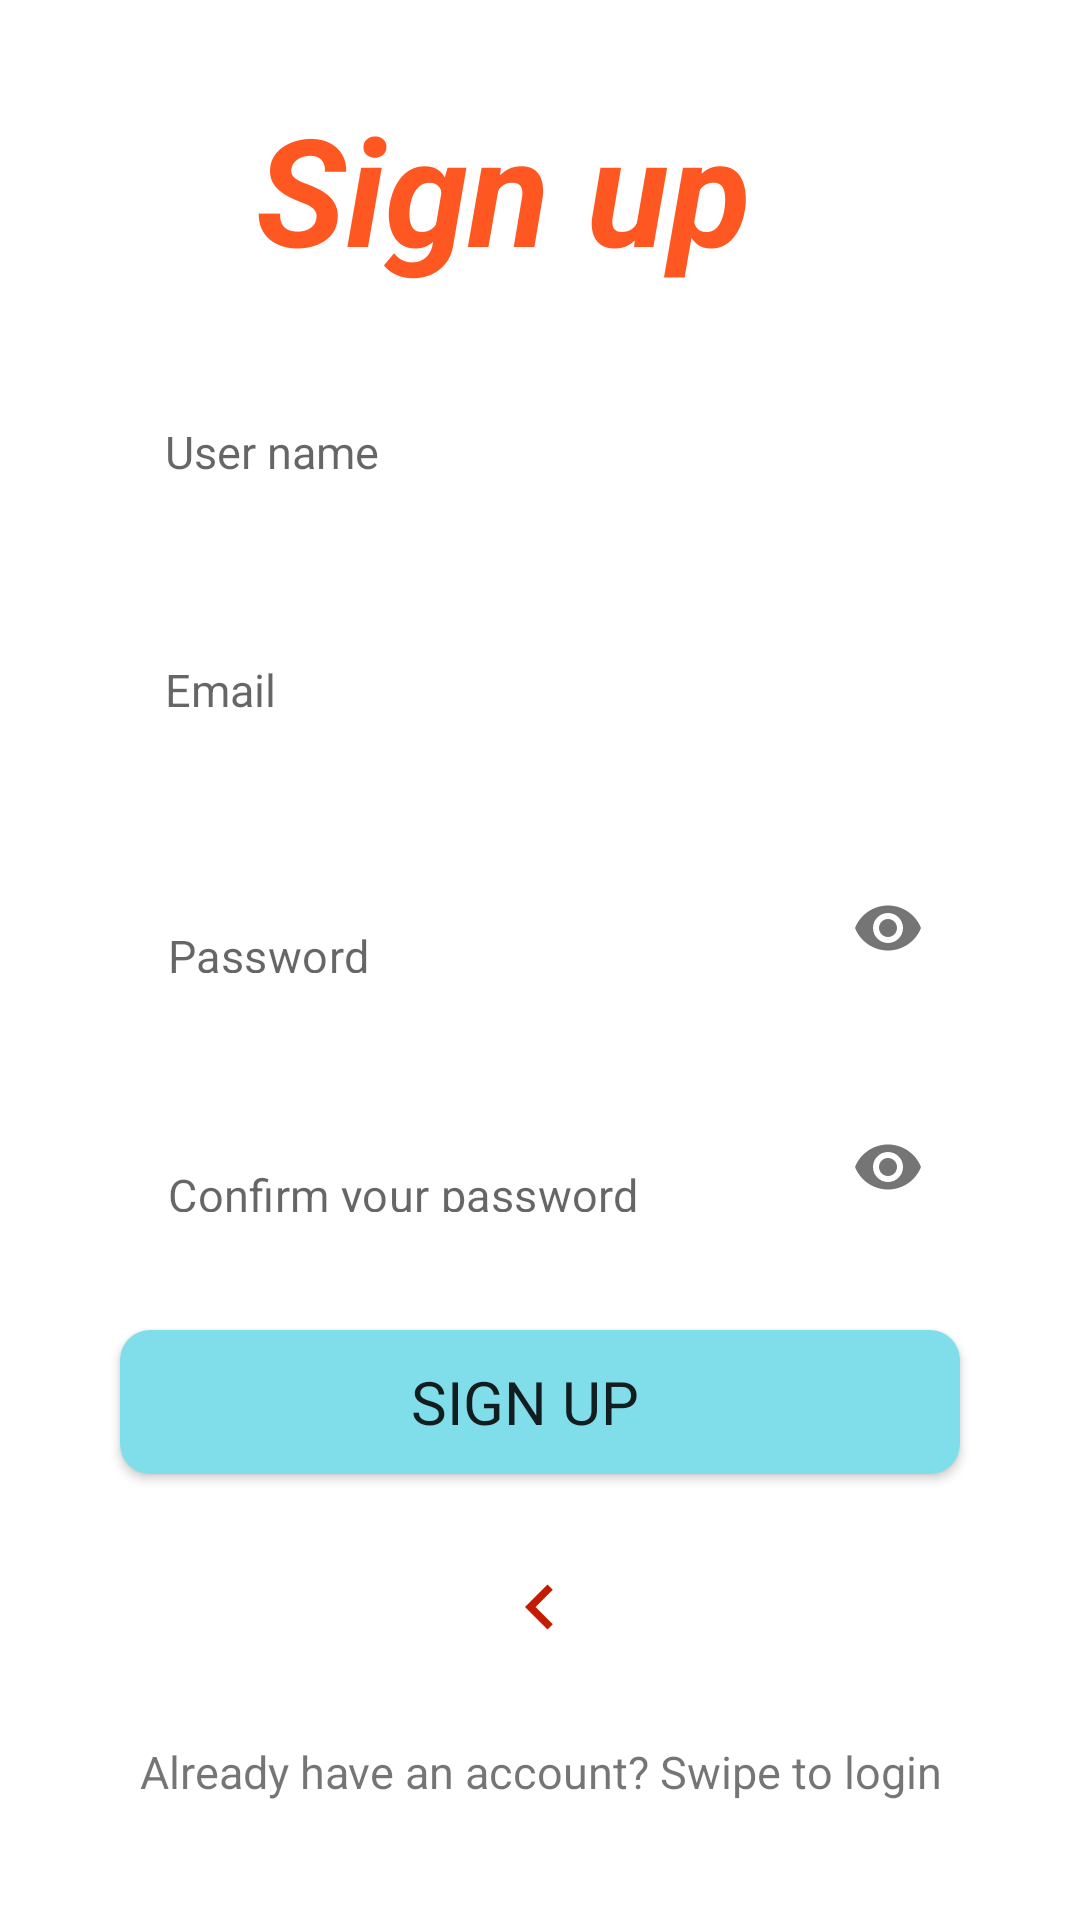

Named icons in this screenshot (1080px×1920px) and their bounding boxes, (x1,y1,x2,y2):
keyboard arrow left: (525,1584,553,1630)
